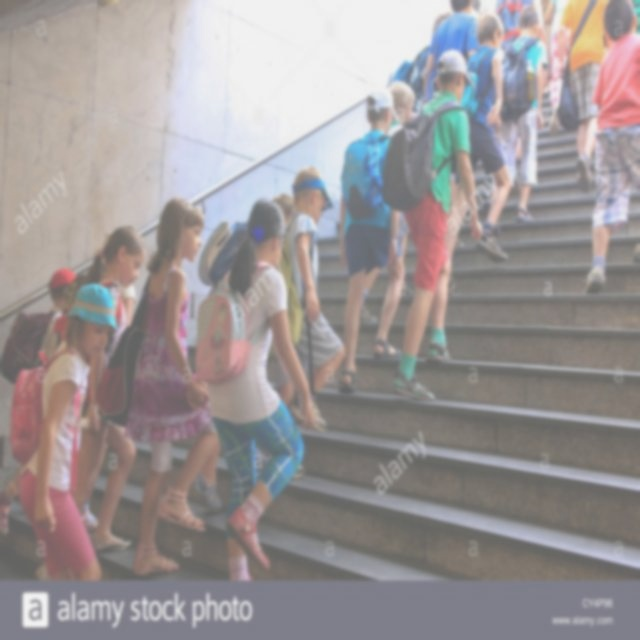pessoa: (193, 198, 316, 584), (378, 47, 486, 404), (191, 190, 309, 514), (122, 194, 222, 576), (44, 225, 149, 559), (16, 282, 119, 580), (269, 168, 348, 480), (332, 82, 409, 398), (432, 8, 514, 300), (580, 0, 640, 297), (482, 3, 550, 240), (556, 0, 618, 194), (0, 267, 79, 387), (422, 0, 482, 107), (534, 0, 574, 138), (387, 44, 437, 118), (70, 440, 104, 531), (384, 80, 417, 142), (494, 0, 534, 51), (118, 282, 144, 332), (512, 129, 526, 199), (92, 226, 115, 260), (432, 8, 453, 36)
